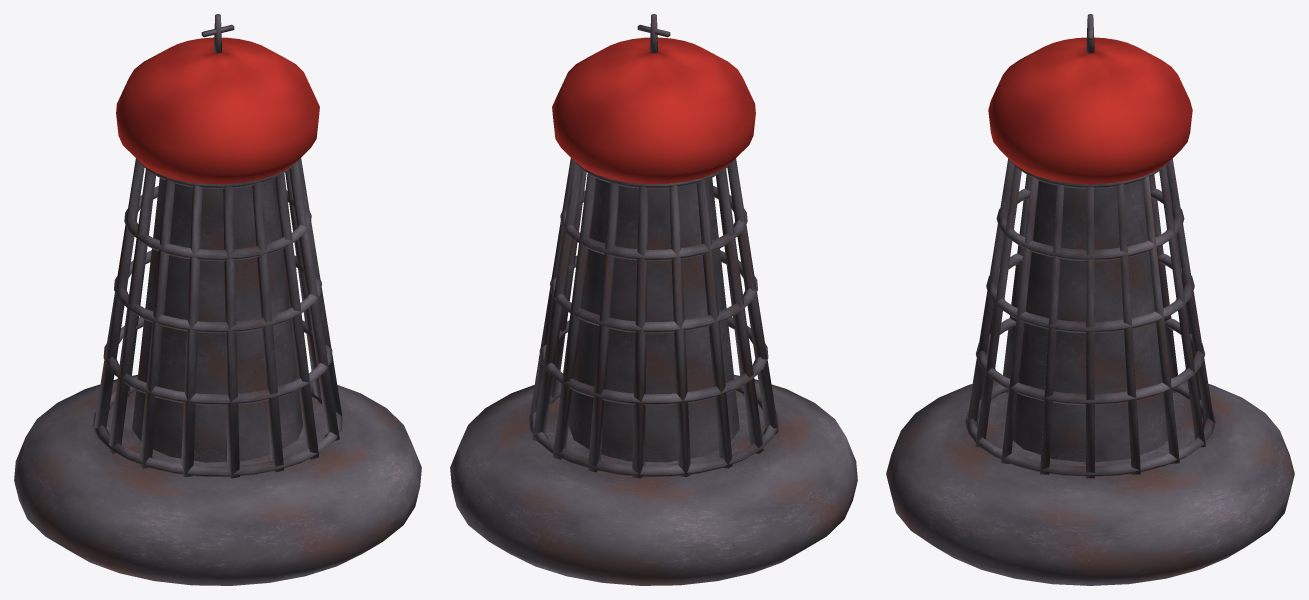
The model's file is mm6_deco_buoy.glb.
3 renders of one model, left to right at view 1: azimuth 30°, elevation 25°; view 2: azimuth 150°, elevation 25°; view 3: azimuth 270°, elevation 25°, orthographic.
Visible parts, largest first — view 1: Buoy; view 2: Buoy; view 3: Buoy.
Part boxes in pixels (x1,y1,x2,y2): Buoy: (14, 14, 421, 585); Buoy: (450, 14, 857, 585); Buoy: (886, 14, 1294, 585).
Bounding box in the file's own units: 1.64 × 2.2 × 1.64.
Materials: 2 (2 with a texture image).
